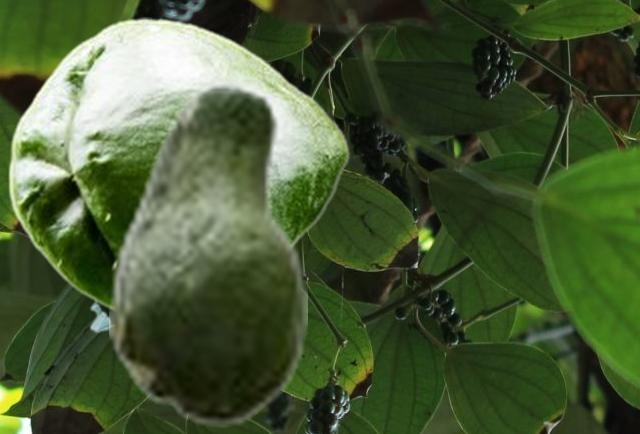sayote: (7, 17, 349, 313), (109, 82, 306, 427)
